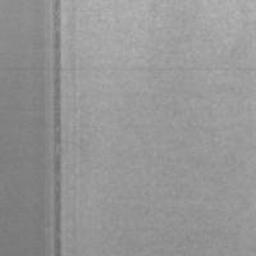Welding line: (51, 0, 64, 256)
